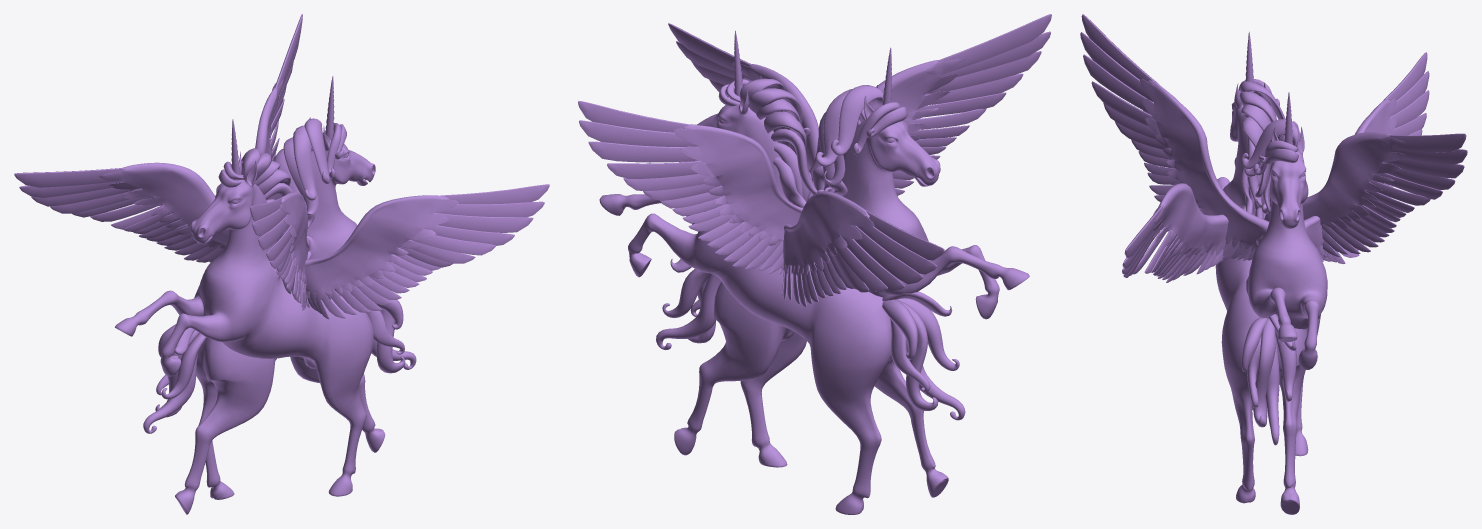
File: scena-unicorni.glb
3 views of the same model, side by side, from view 1: azimuth 30°, elevation 25°; view 2: azimuth 150°, elevation 25°; view 3: azimuth 270°, elevation 25° (orthographic). The views are drawn at different scales.
Parts seen in each view (by area): view 1: UnicornoDestra, UnicornoSinistra; view 2: UnicornoSinistra, UnicornoDestra; view 3: UnicornoDestra, UnicornoSinistra.
Boxes of the visible parts, x1,y1,x2,y2 form: UnicornoDestra: (115, 14, 549, 496); UnicornoSinistra: (14, 76, 375, 514); UnicornoSinistra: (599, 14, 1051, 514); UnicornoDestra: (578, 23, 1029, 467); UnicornoDestra: (1122, 31, 1467, 514); UnicornoSinistra: (1080, 14, 1429, 456).
Bounding box in the file's own units: 5.12 × 4.99 × 4.24.
